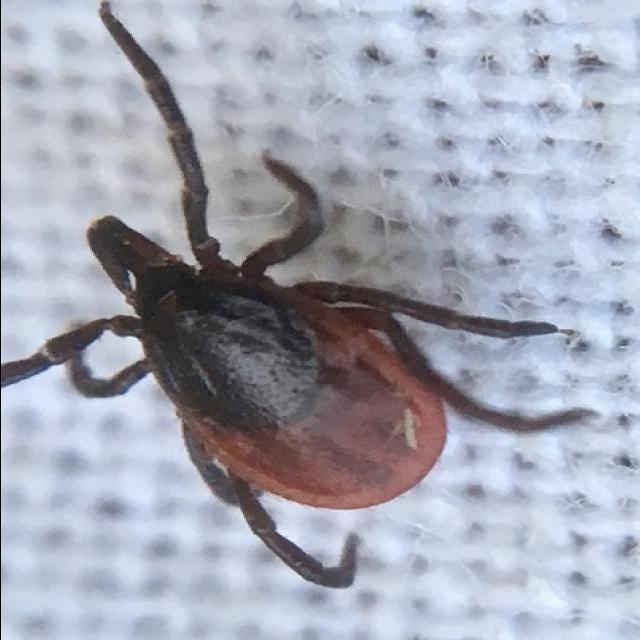Ixodes Ricinus-F: (0, 0, 599, 589)
